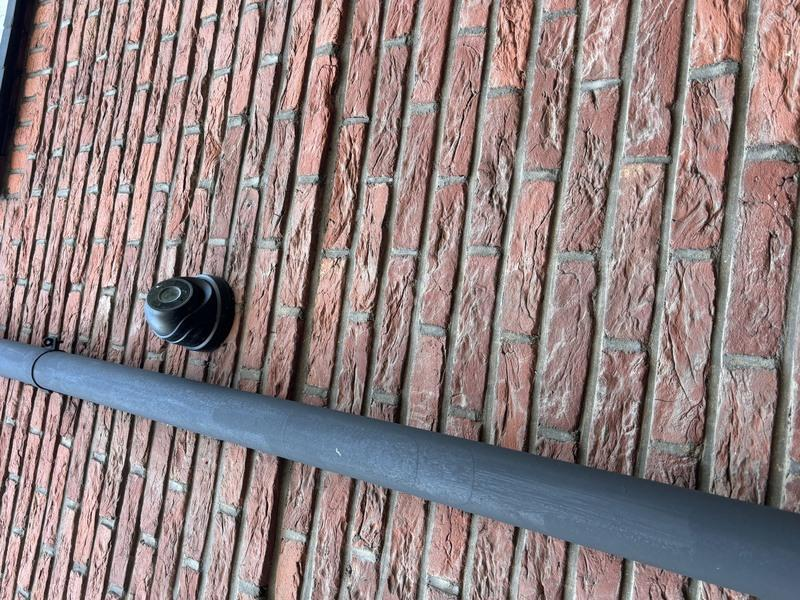turret: (245, 137, 331, 242)
